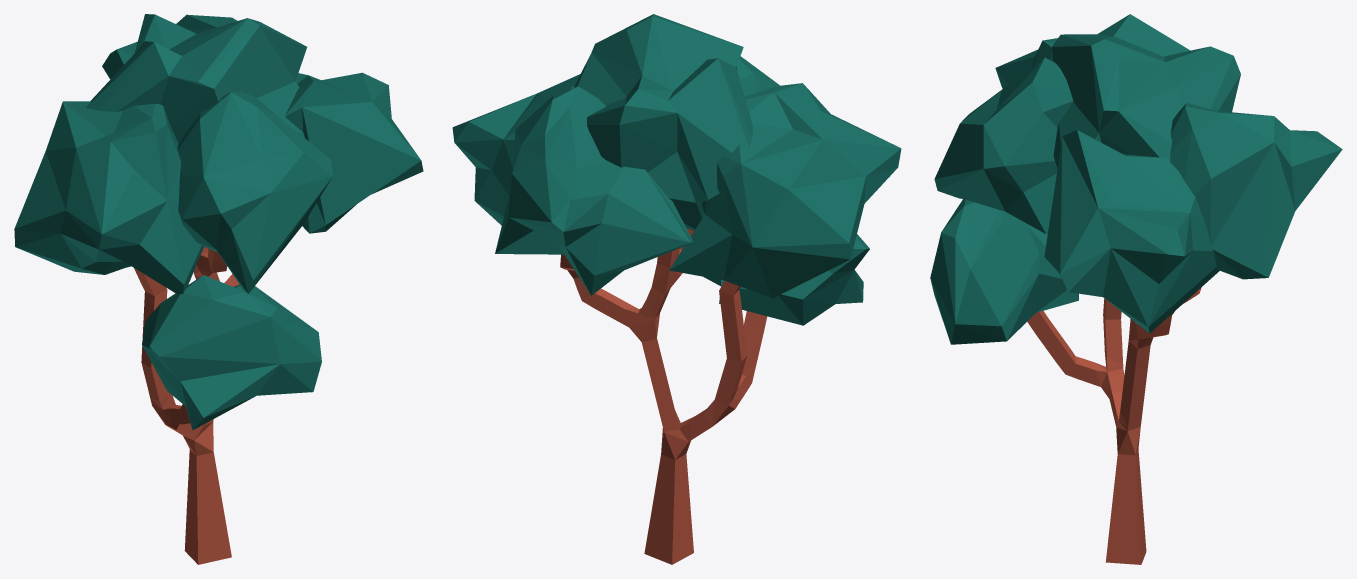
The model's file is tree_07.dae.
3 views of the same model, side by side, from view 1: azimuth 30°, elevation 25°; view 2: azimuth 150°, elevation 25°; view 3: azimuth 270°, elevation 25° (orthographic). The views are drawn at different scales.
Parts seen in each view (by area): view 1: Head, Branch; view 2: Head, Branch; view 3: Head, Branch.
Boxes of the visible parts, left/top/right/bottom form: Head: left=14, top=14, right=423, bottom=430; Branch: left=134, top=246, right=239, bottom=564; Head: left=452, top=14, right=901, bottom=325; Branch: left=560, top=228, right=767, bottom=564; Head: left=930, top=14, right=1342, bottom=344; Branch: left=1027, top=287, right=1201, bottom=564.
Size of the model in its own units: 7.01 by 6.47 by 9.22.
